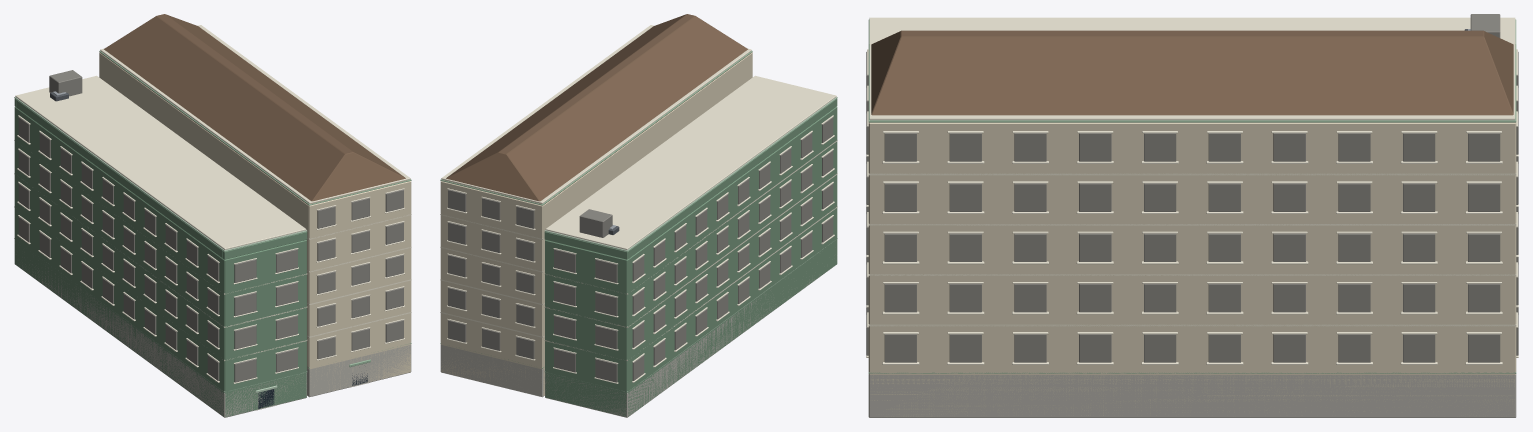
File: VG_Bld_Residential_20.fbx
3 renders of one model, left to right at view 1: azimuth 30°, elevation 25°; view 2: azimuth 150°, elevation 25°; view 3: azimuth 270°, elevation 25°, orthographic. The views are drawn at different scales.
Visible parts, largest first — view 1: VG_Bld_Residential_20_Body; view 2: VG_Bld_Residential_20_Body; view 3: VG_Bld_Residential_20_Body.
Boxes of the visible parts, x1=… form: VG_Bld_Residential_20_Body: x1=14, y1=14, x2=411, y2=417; VG_Bld_Residential_20_Body: x1=440, y1=14, x2=837, y2=417; VG_Bld_Residential_20_Body: x1=866, y1=14, x2=1518, y2=417.
Bounding box in the file's own units: 25 × 28.08 × 48.
